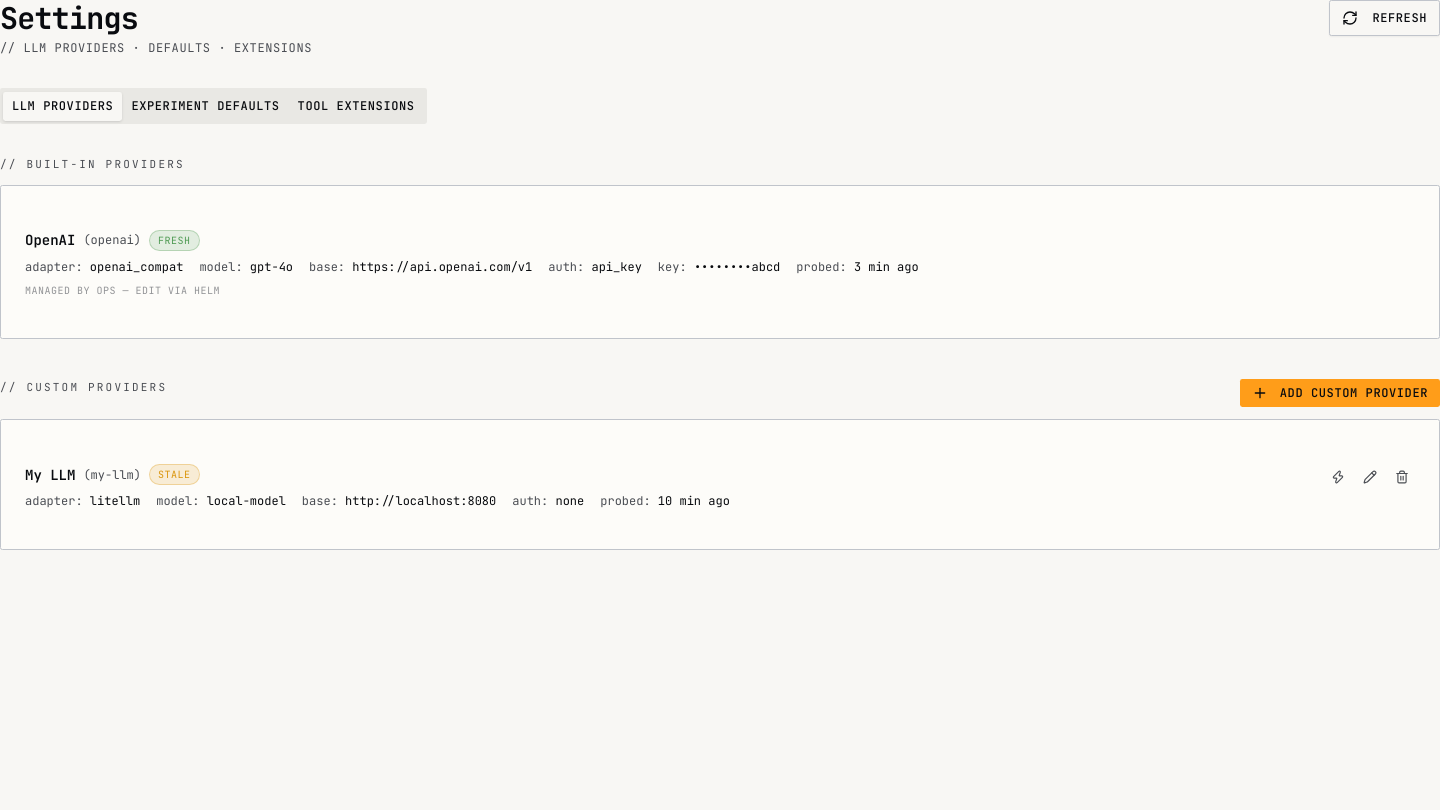
Test: ProvidersPanel — Delete › opens delete confirm when Delete button is clicked
Expected: the text "My LLM" is shown, [25, 464, 75, 484]
Click the button titled "Delete" at {"x": 1402, "y": 477}, box [1389, 464, 1415, 490]
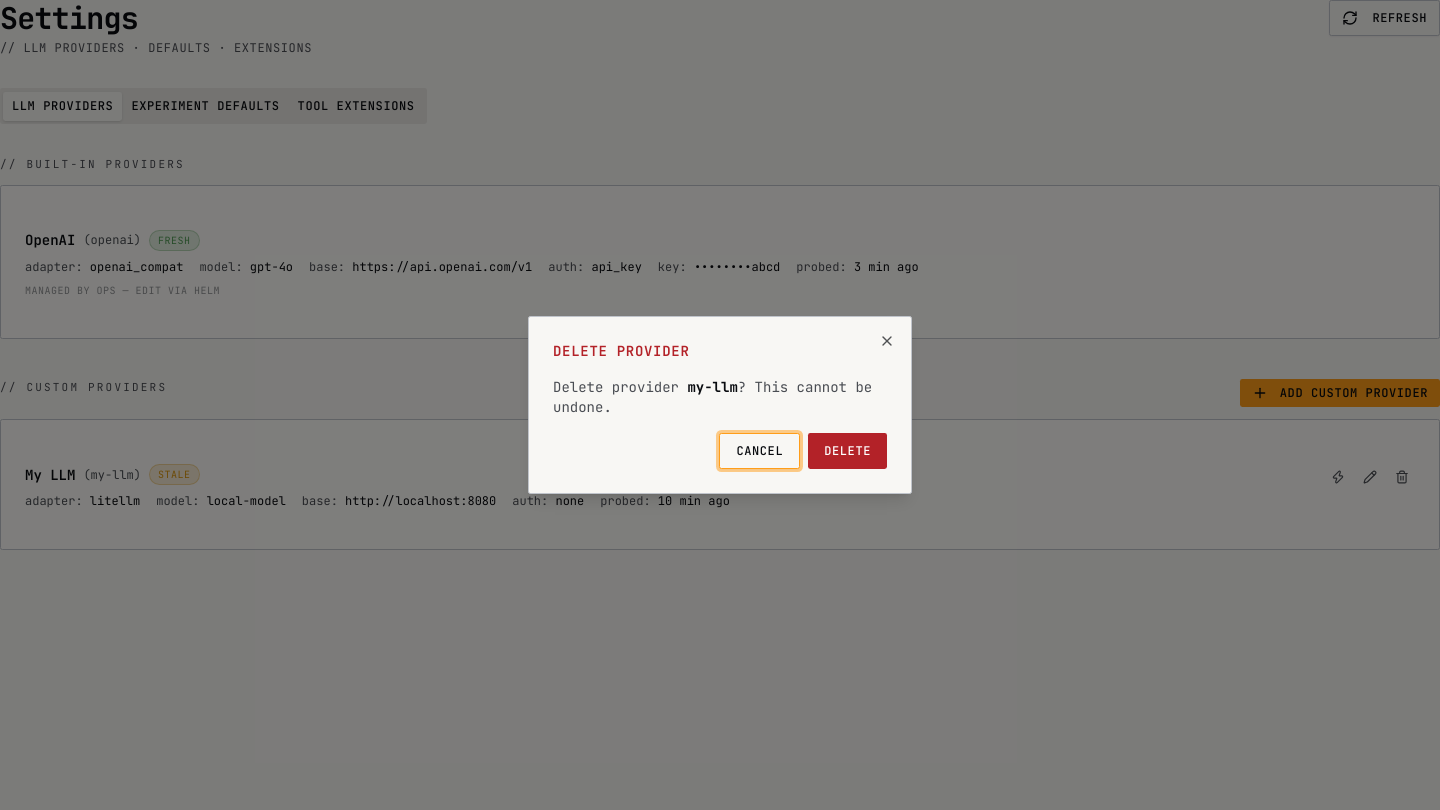
Result: the dialog is shown at [528, 316, 912, 494]
